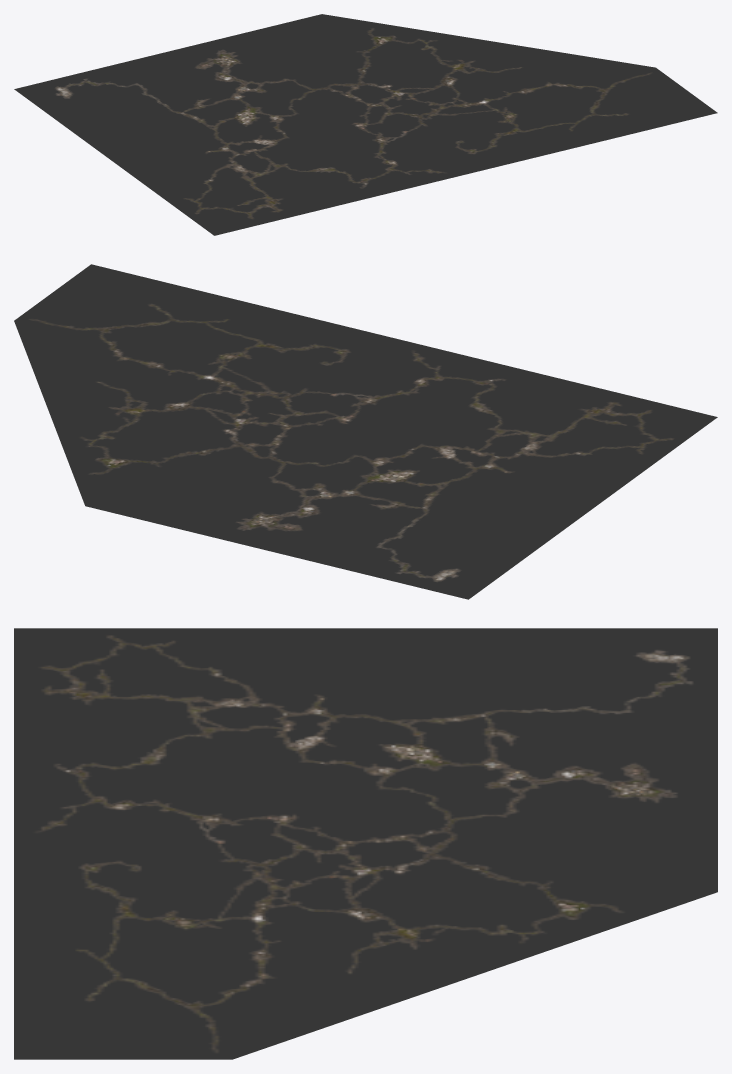
Rendered from Decal_Cracks_B.fbx.
3 renders of one model, top to bottom at view 1: azimuth 30°, elevation 25°; view 2: azimuth 150°, elevation 25°; view 3: azimuth 270°, elevation 25°, orthographic. The views are drawn at different scales.
Parts seen in each view (by area): view 1: Decal_Cracks_B; view 2: Decal_Cracks_B; view 3: Decal_Cracks_B.
Part boxes in pixels (x1,y1,x2,y2): Decal_Cracks_B: (14,14,717,235); Decal_Cracks_B: (14,264,717,599); Decal_Cracks_B: (14,628,717,1059).
Bounding box in the file's own units: 1030 × 3.1e-05 × 710.
